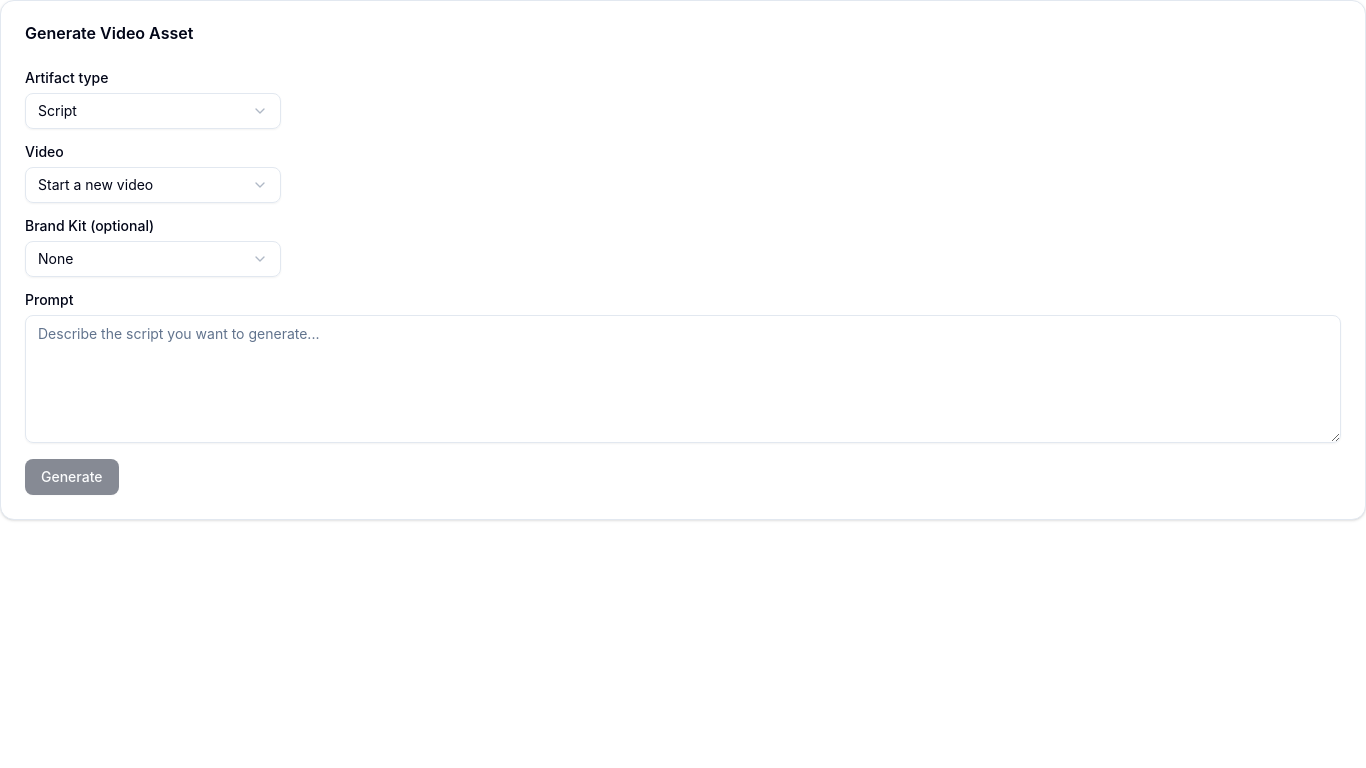
Test case: VideoGenerateForm › lists both text and visual artifact kinds
Click the dropdown named "Artifact type".
click(153, 111)  # box [25,93,281,129]
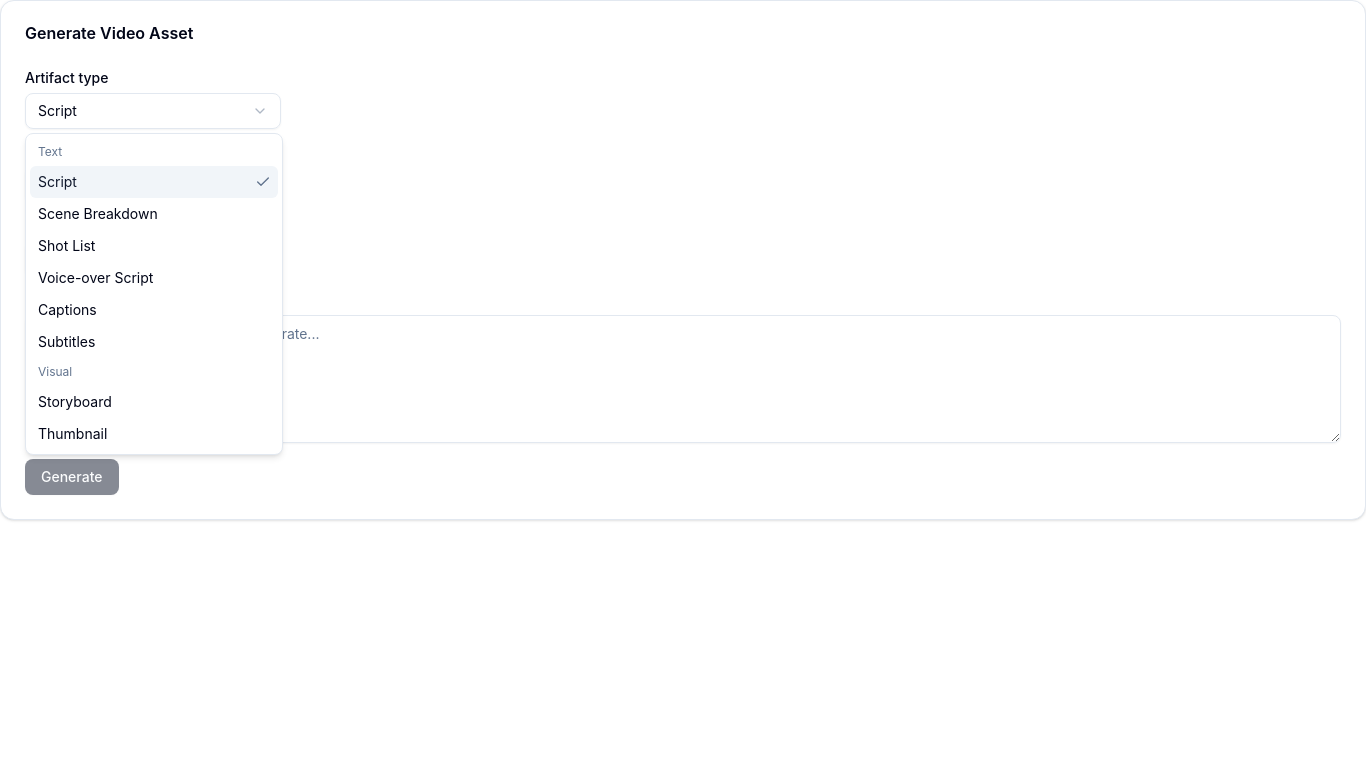
expect the option "Scene Breakdown" is shown: met, box [38,205,158,222]
expect the option "Shot List" is shown: met, box [38,237,96,254]
expect the option "Voice-over Script" is shown: met, box [38,269,153,286]
